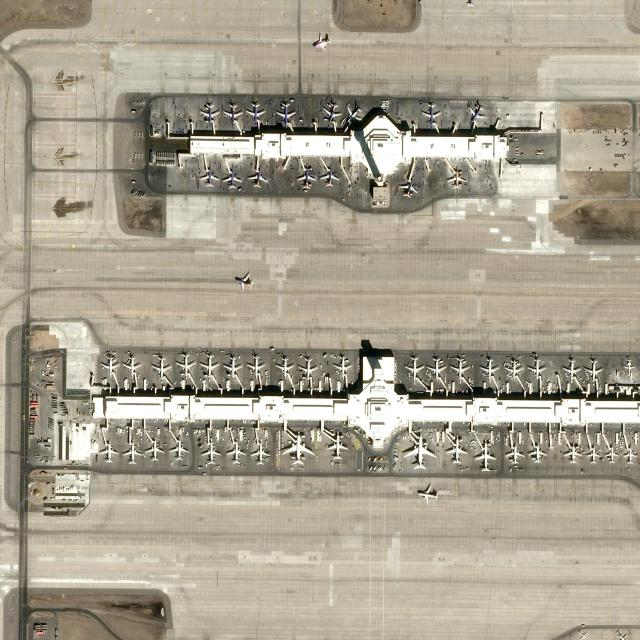1: (464, 0, 474, 8)
aircraft: (401, 433, 437, 470), (282, 432, 316, 466), (474, 442, 498, 472), (326, 431, 349, 461), (445, 436, 469, 464), (198, 352, 220, 380), (404, 352, 424, 382), (174, 351, 196, 378), (274, 353, 296, 379), (222, 354, 244, 380), (150, 354, 172, 380), (451, 353, 471, 381), (427, 355, 448, 381), (274, 101, 296, 125), (144, 439, 166, 463), (121, 441, 143, 465), (421, 101, 442, 126), (584, 356, 604, 382), (562, 356, 582, 382), (246, 353, 266, 379), (298, 354, 318, 379), (122, 353, 142, 378), (226, 440, 246, 465), (198, 166, 220, 188), (416, 482, 439, 503), (201, 442, 222, 465), (223, 101, 243, 125), (480, 357, 500, 381), (332, 354, 352, 378), (100, 353, 120, 377), (318, 166, 339, 188), (321, 100, 341, 123), (398, 176, 418, 199), (297, 167, 317, 190), (528, 356, 548, 379), (246, 100, 265, 124), (222, 168, 242, 190), (504, 358, 524, 380), (504, 444, 524, 466), (250, 442, 270, 464), (200, 100, 218, 124), (447, 168, 467, 189), (234, 272, 255, 292), (563, 442, 583, 463), (528, 442, 548, 463), (169, 440, 190, 460), (467, 102, 486, 124), (344, 103, 363, 125), (247, 168, 267, 188), (100, 442, 120, 462), (312, 31, 331, 50), (604, 446, 620, 464), (586, 446, 602, 464), (624, 447, 636, 466), (623, 359, 635, 376)
